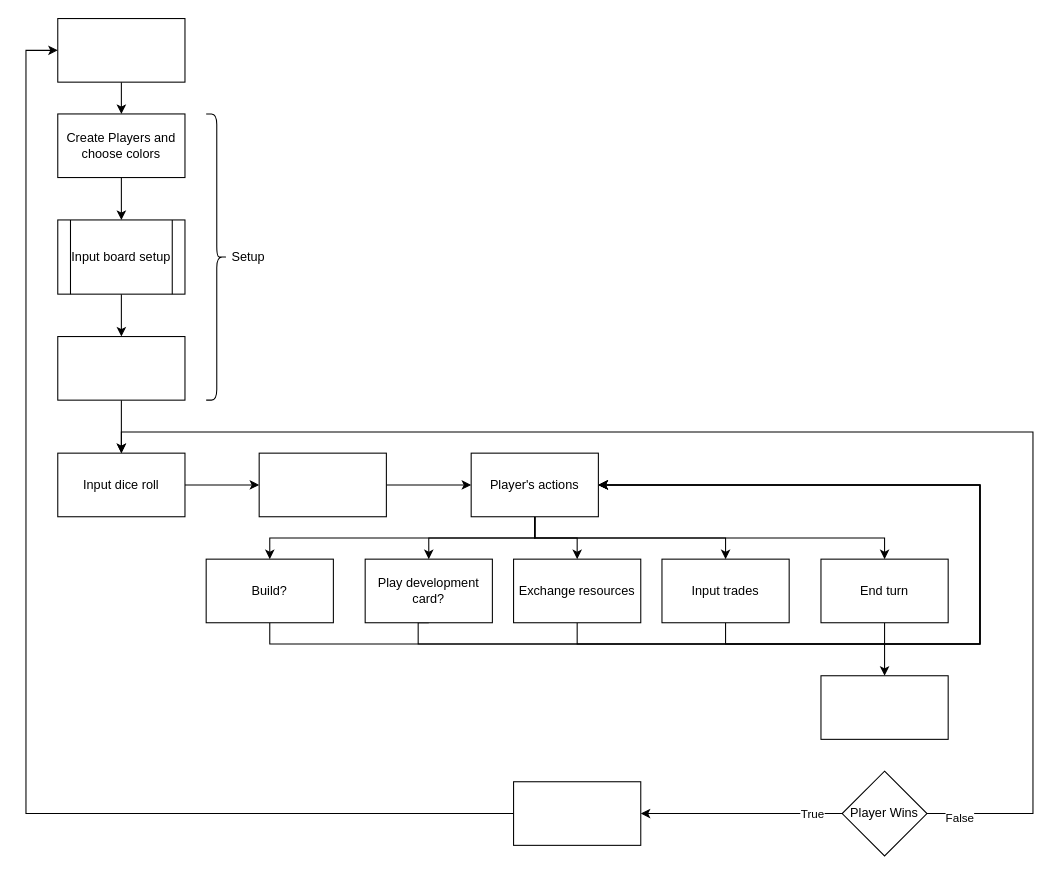
This 1060x874 diagram has some shape labels left out. The centre of each missing label's shape, as x and y in pixels:
Check player score for win condition: [884,707]
Create New Game/Board: [121,49]
Game Over: [577,813]
Give appropriate resources: [322,484]
Place 2 settlements and roads for each player: [121,367]
